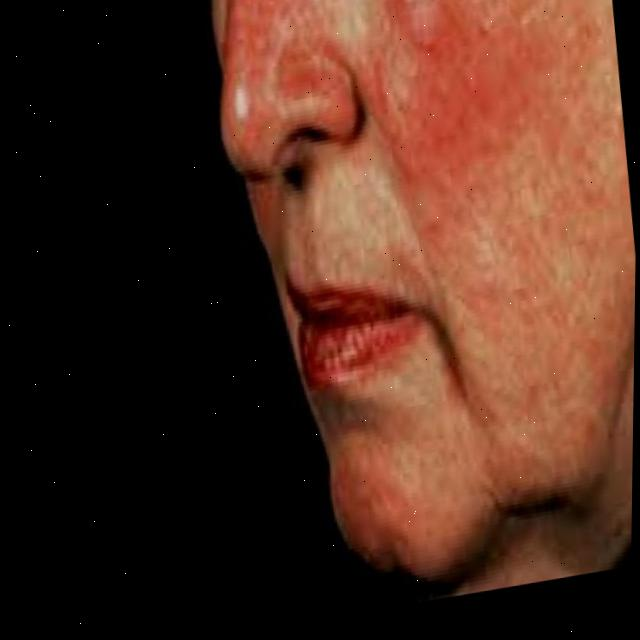Rosacea: (368, 0, 547, 197), (221, 0, 311, 107)
